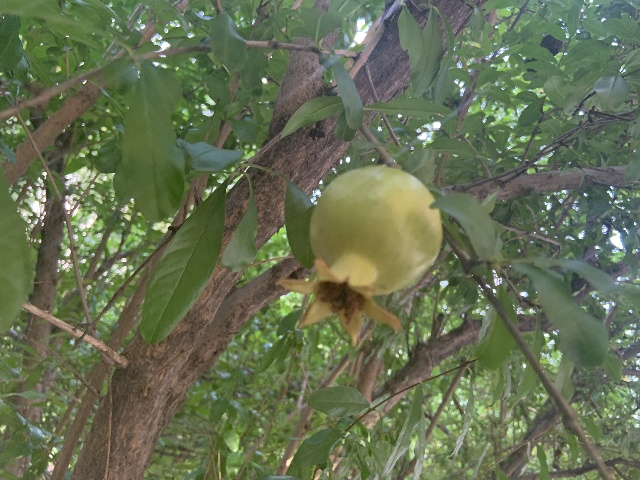mid-growth: (276, 164, 443, 347)
